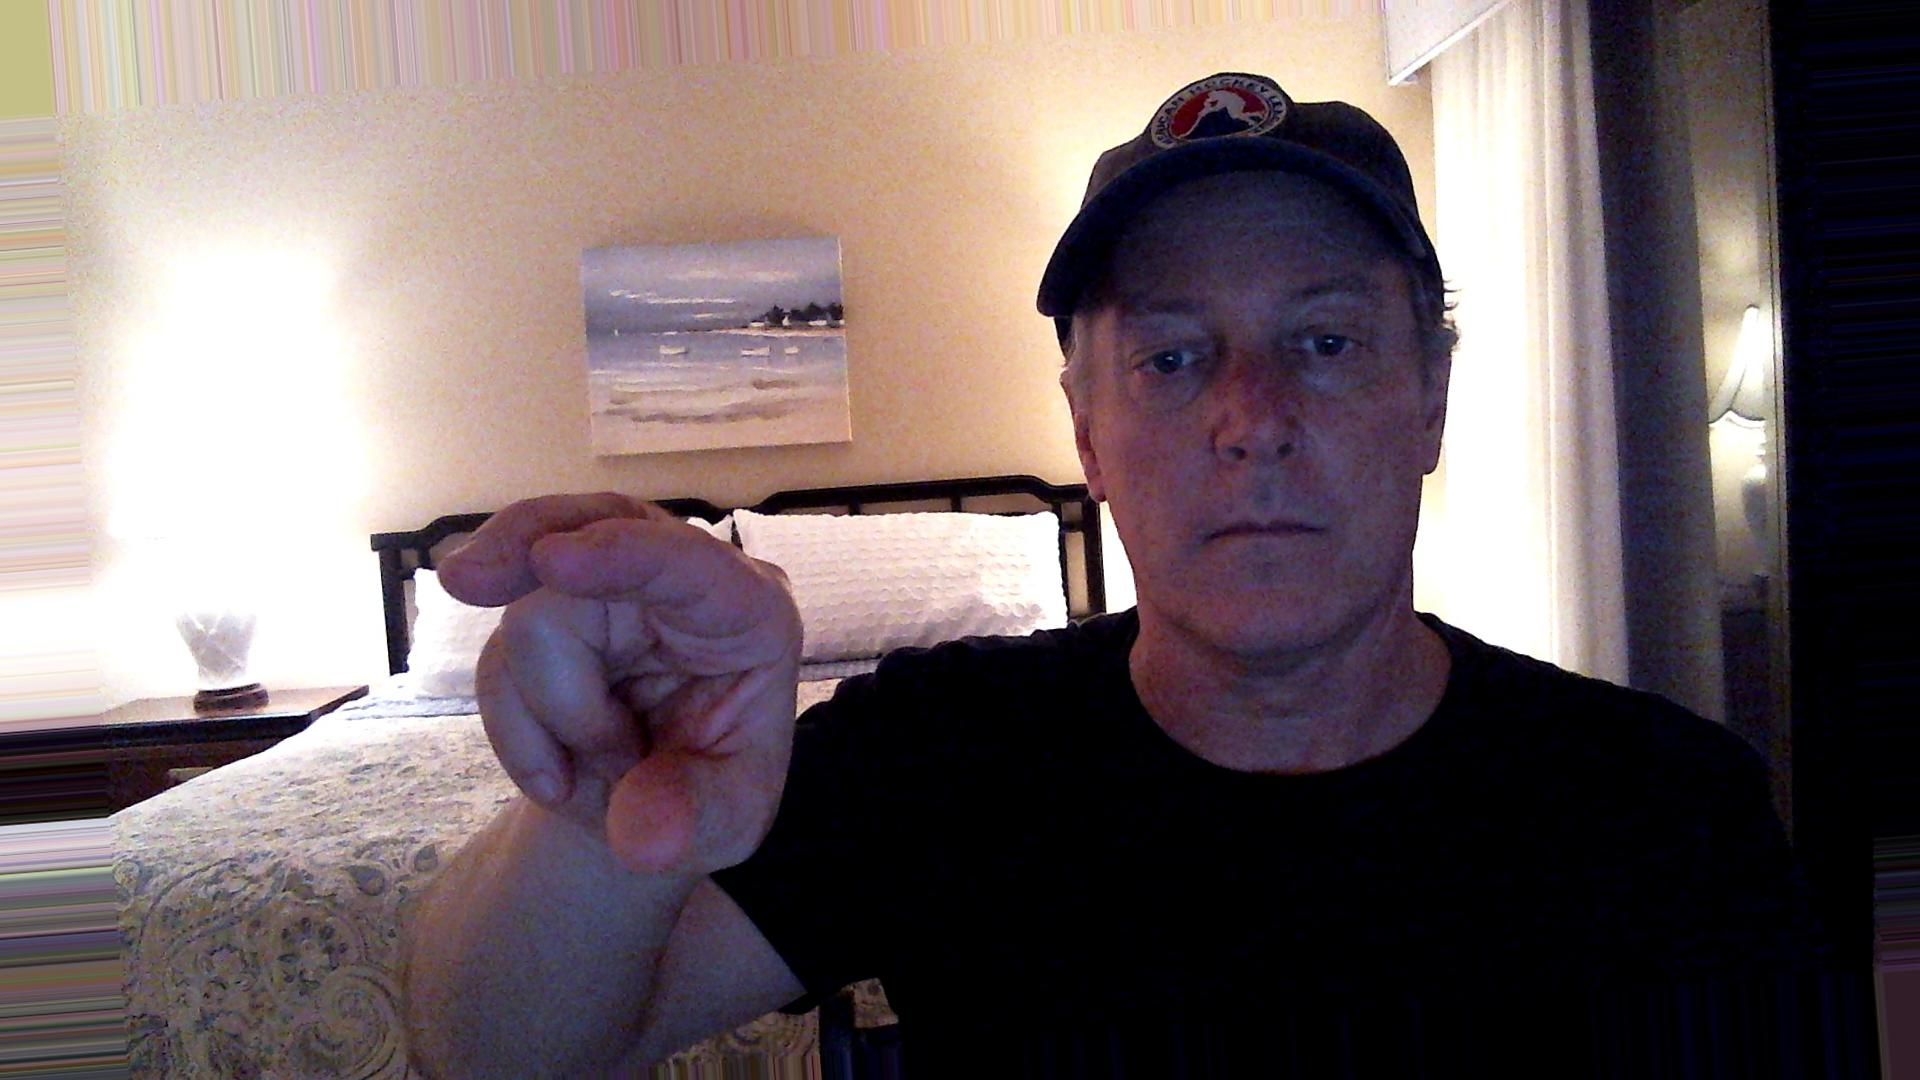No: (415, 462, 837, 948)
